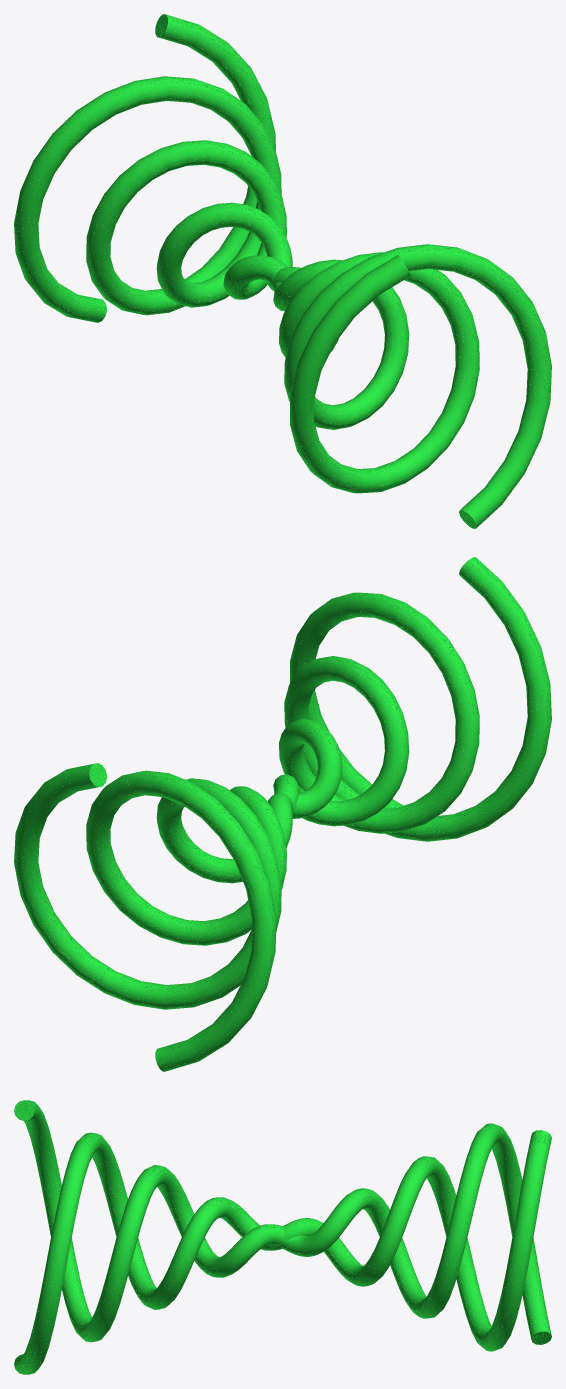
File: conichelix.glb
The picture shows the model from 3 angles, top to bottom: view 1: azimuth 30°, elevation 25°; view 2: azimuth 150°, elevation 25°; view 3: azimuth 270°, elevation 25°; orthographic projection. The views are drawn at different scales.
Parts seen in each view (by area): view 1: MyParametricCurve.004, MyParametricCurve.001, MyParametricCurve.002, MyParametricCurve.003; view 2: MyParametricCurve.004, MyParametricCurve.002, MyParametricCurve.003, MyParametricCurve.001; view 3: MyParametricCurve.003, MyParametricCurve.004, MyParametricCurve.001, MyParametricCurve.002.
Part boxes in pixels (box(x1,y1,x2,y2)): MyParametricCurve.004: box(14, 76, 292, 322); MyParametricCurve.001: box(272, 244, 551, 528); MyParametricCurve.002: box(273, 252, 479, 493); MyParametricCurve.003: box(86, 14, 288, 315); MyParametricCurve.004: box(86, 770, 290, 1071); MyParametricCurve.002: box(273, 557, 551, 841); MyParametricCurve.003: box(14, 763, 294, 1009); MyParametricCurve.001: box(279, 592, 479, 833); MyParametricCurve.003: box(280, 1130, 551, 1351); MyParametricCurve.004: box(281, 1123, 551, 1344); MyParametricCurve.001: box(14, 1132, 284, 1374); MyParametricCurve.002: box(14, 1100, 284, 1342).
Size of the model in its own units: 24.03 by 25.74 by 51.27.
